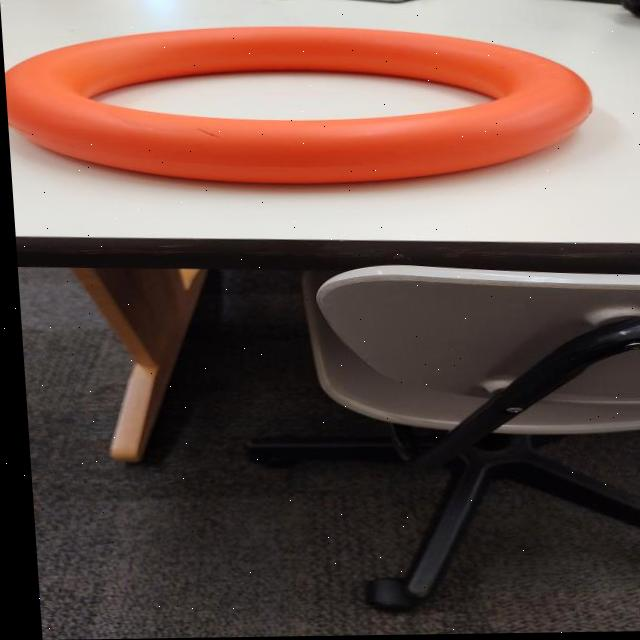note: (2, 23, 597, 192)
